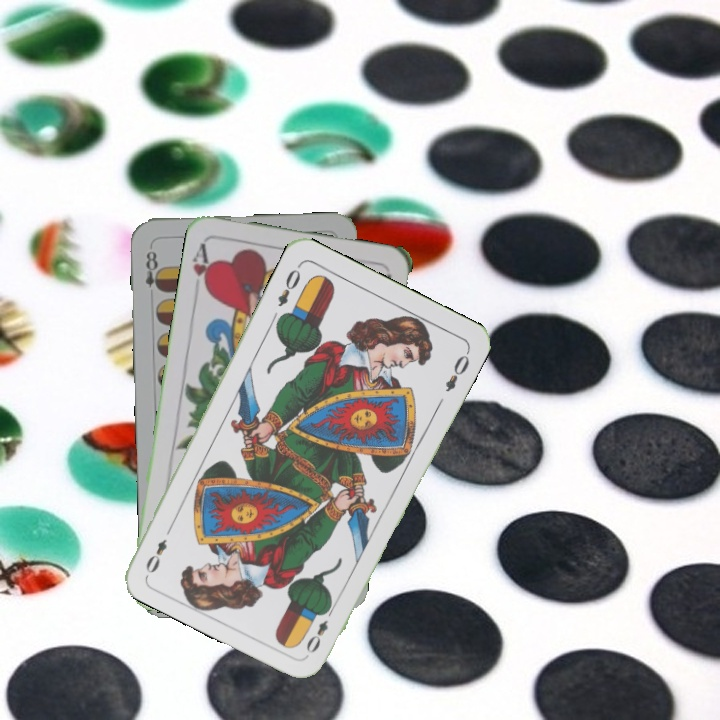E8: (141, 246, 165, 294)
EO: (302, 602, 337, 656), (273, 265, 304, 310)
HA: (188, 238, 216, 295)
